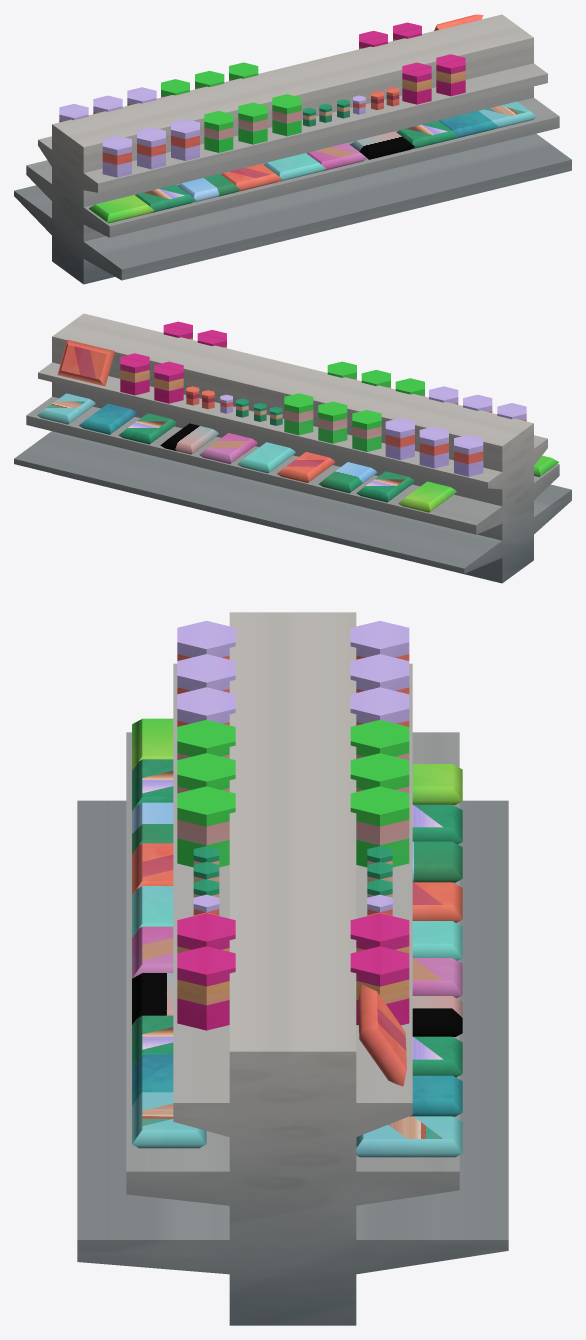
File: counter_1.fbx
3 renders of one model, top to bottom at view 1: azimuth 30°, elevation 25°; view 2: azimuth 150°, elevation 25°; view 3: azimuth 270°, elevation 25°, orthographic. The views are drawn at different scales.
Visible parts, largest first — view 1: pCube60; view 2: pCube60; view 3: pCube60.
Part boxes in pixels (left/top/right/bottom): pCube60: left=14, top=14, right=571, bottom=284; pCube60: left=14, top=313, right=571, bottom=583; pCube60: left=77, top=612, right=508, bottom=1325.
Bounding box in the file's own units: 2144 × 633 × 887.
